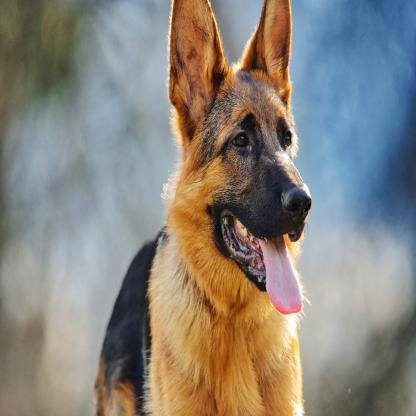dog: (93, 2, 316, 416)
